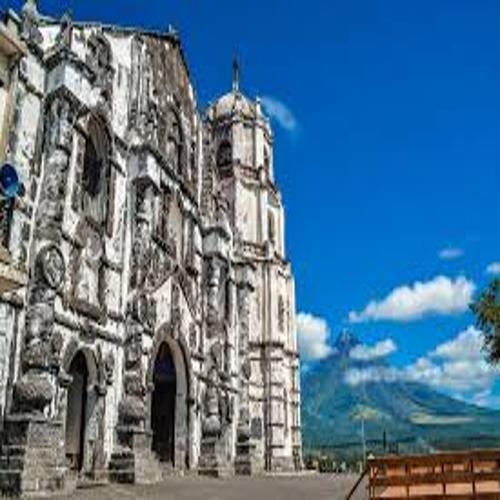Daraga Church: (13, 4, 308, 485)
